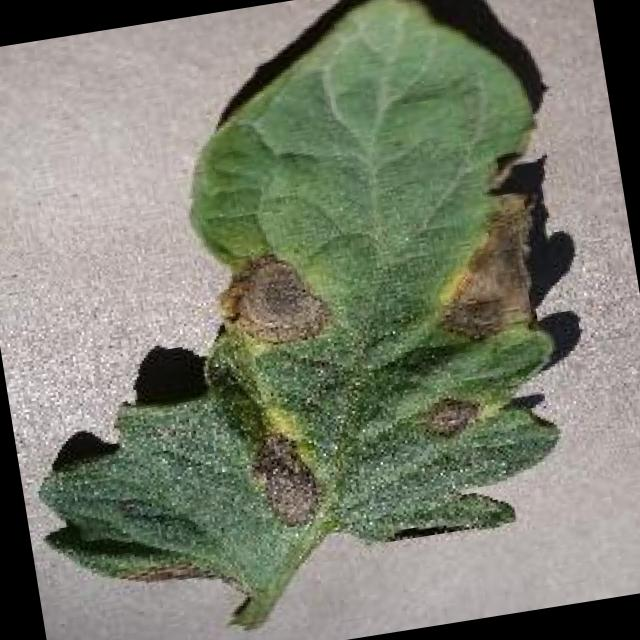Tomato_Early_Blight: (128, 166, 602, 555)
